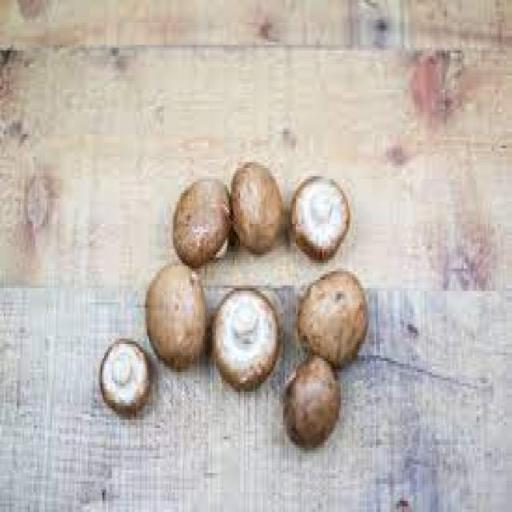mushroom: (212, 284, 282, 390), (144, 271, 212, 372), (297, 269, 368, 355), (102, 340, 170, 429), (287, 353, 350, 443), (171, 180, 234, 264), (288, 173, 353, 251), (228, 161, 286, 244)
